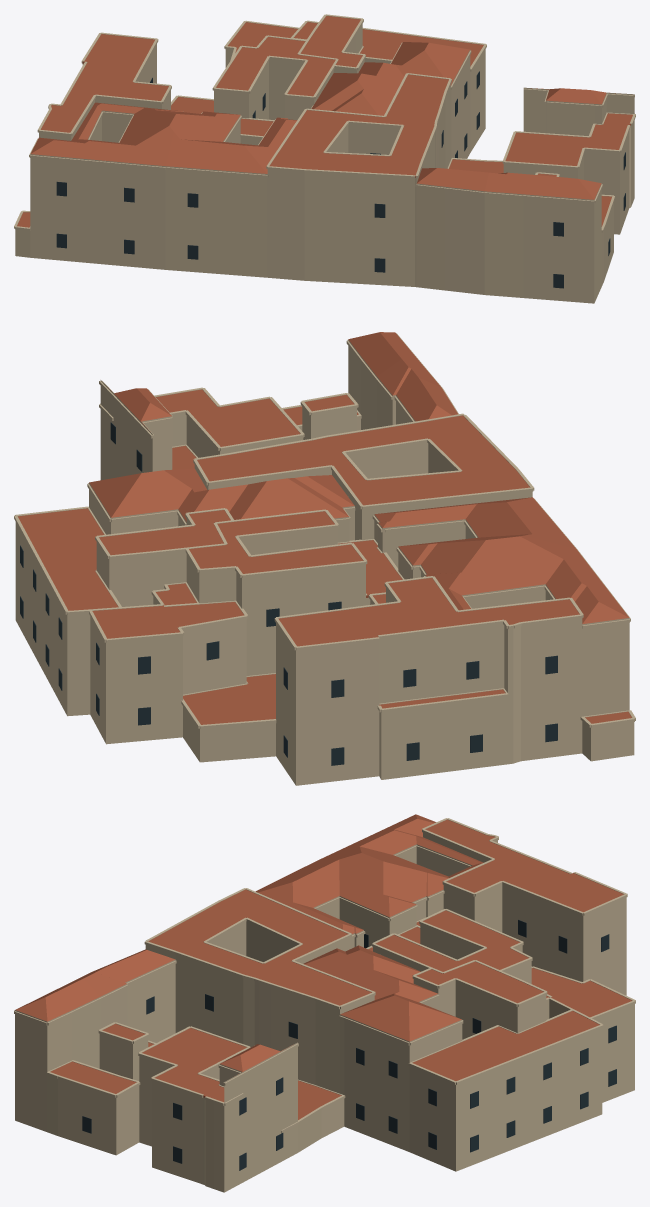
The model's file is picasso-barcelona.glb.
3 views of the same model, one above another, from view 1: azimuth 30°, elevation 25°; view 2: azimuth 150°, elevation 25°; view 3: azimuth 270°, elevation 25° (orthographic). The views are drawn at different scales.
Parts seen in each view (by area): view 1: primary-envelope, mapped-part, mapped-roof, primary-roof, cornice, window-rhythm; view 2: mapped-part, mapped-roof, primary-roof, cornice, primary-envelope, window-rhythm; view 3: mapped-part, mapped-roof, primary-envelope, primary-roof, cornice, window-rhythm.
Boxes of the visible parts, x1,y1,x2,y2 form: primary-envelope: (30,50,634,303); mapped-part: (15,24,634,287); mapped-roof: (17,16,632,227); primary-roof: (30,42,615,199); cornice: (14,14,635,232); window-rhythm: (56,71,625,288); mapped-part: (15,407,634,785); mapped-roof: (18,389,631,724); primary-roof: (89,332,629,623); cornice: (14,333,635,729); primary-envelope: (89,340,629,716); window-rhythm: (20,422,557,765); mapped-part: (47,832,634,1192); mapped-roof: (50,819,631,1119); primary-envelope: (15,844,472,1192); primary-roof: (15,814,483,1074); cornice: (14,818,635,1133); window-rhythm: (82,919,616,1170).
Size of the model in its own units: 16 by 3.58 by 15.37.
